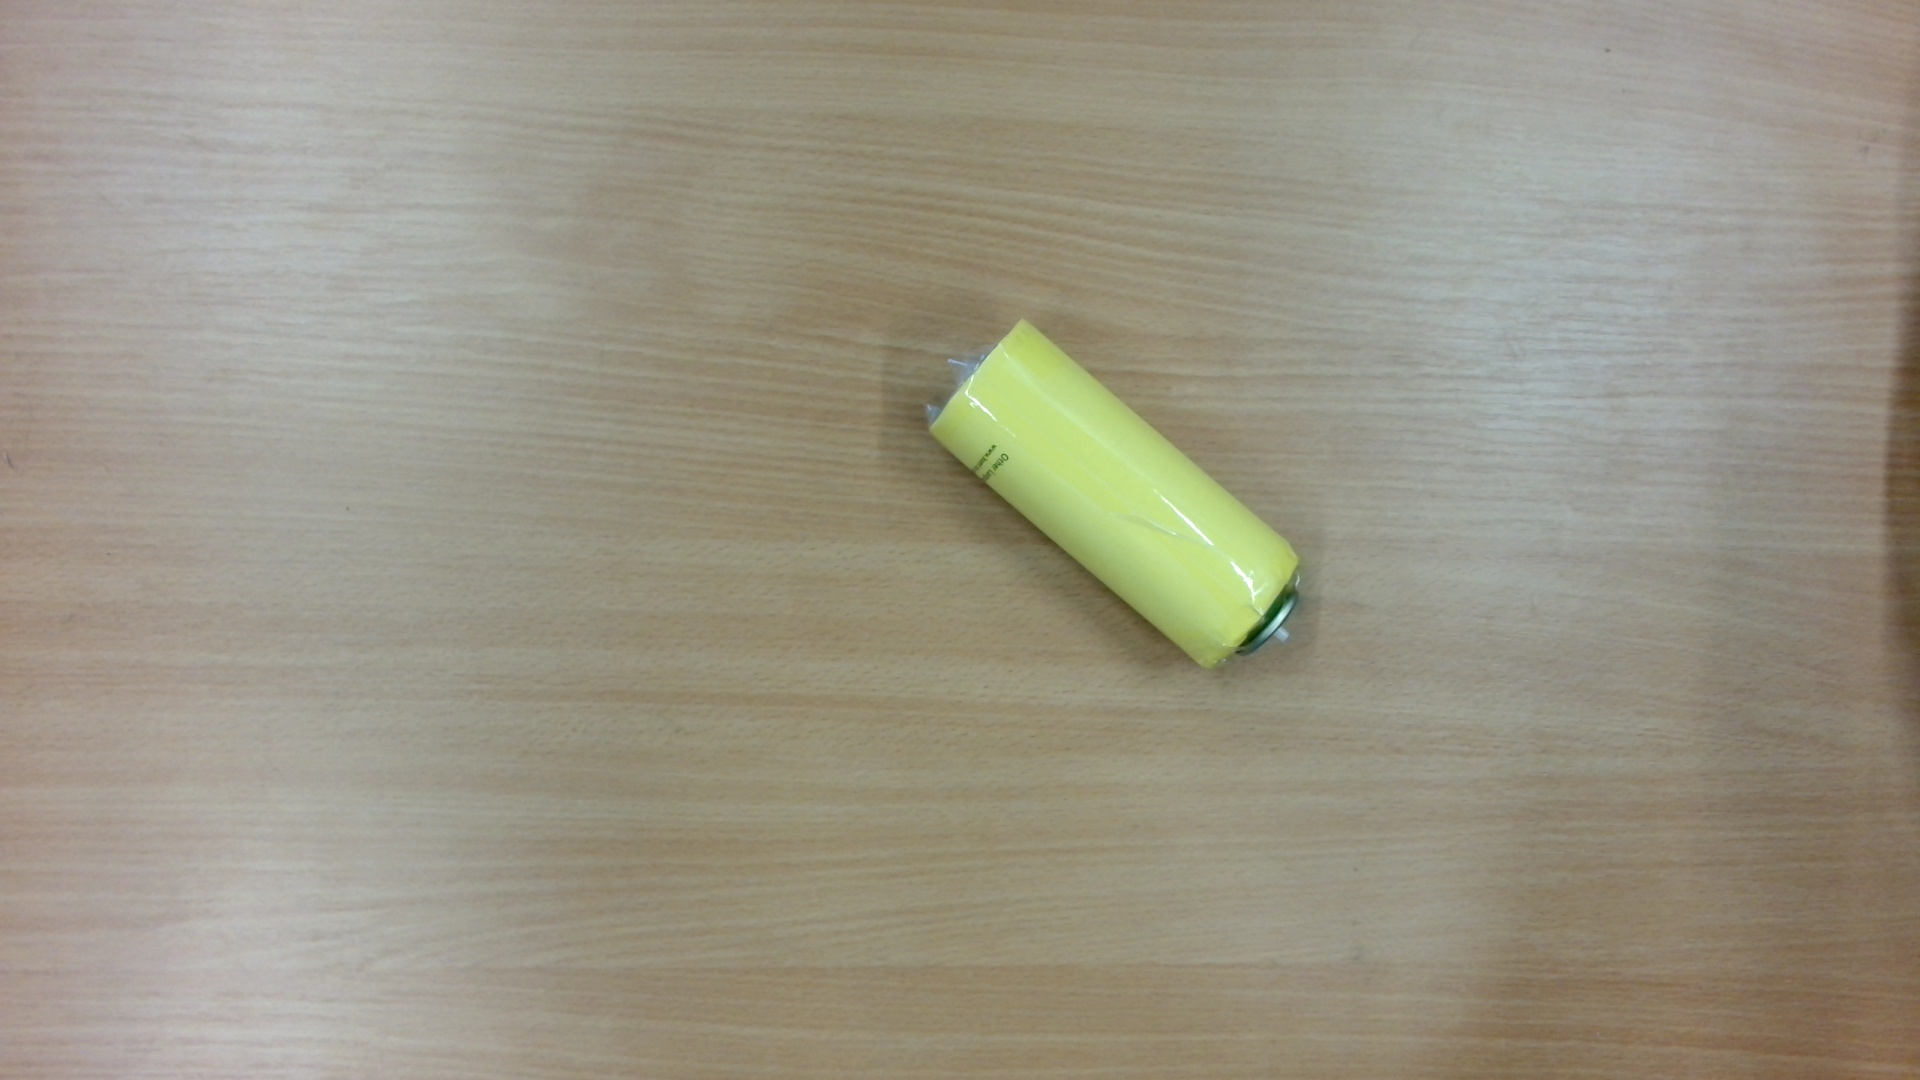Cylinder: (910, 307, 1327, 695)
